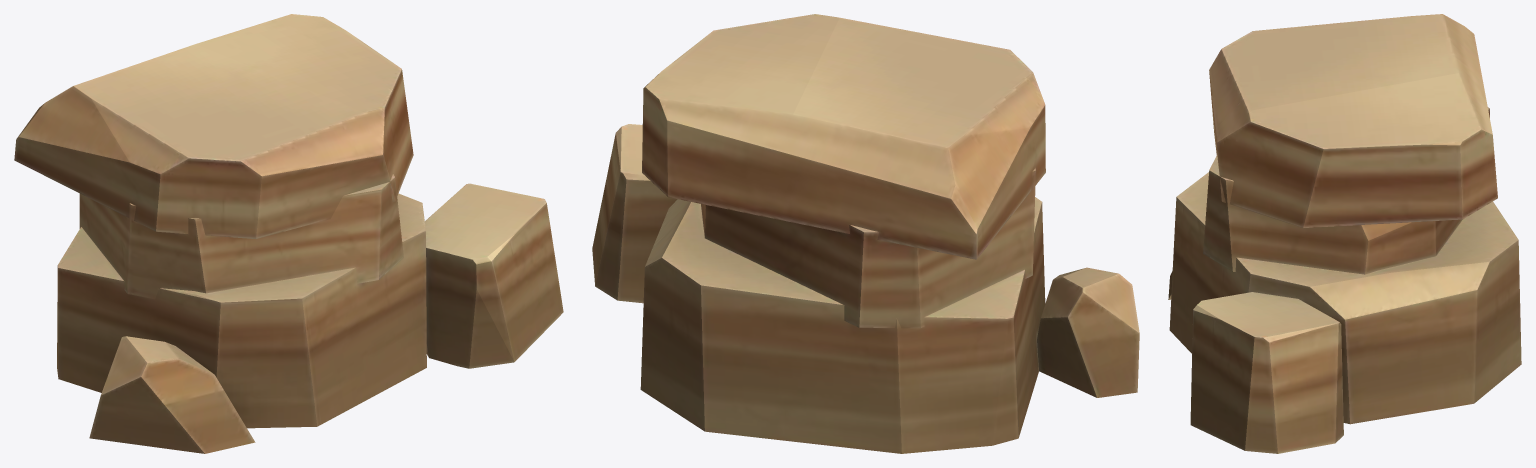
The model's file is rock_sandstone_b.glb.
The picture shows the model from 3 angles, left to right: view 1: azimuth 30°, elevation 25°; view 2: azimuth 150°, elevation 25°; view 3: azimuth 270°, elevation 25°; orthographic projection. The views are drawn at different scales.
Visible parts, largest first — view 1: Static_Mesh; view 2: Static_Mesh; view 3: Static_Mesh.
Boxes of the visible parts, <box> form: Static_Mesh: <box>14,14,563,453</box>; Static_Mesh: <box>592,14,1139,453</box>; Static_Mesh: <box>1168,14,1521,453</box>.
Size of the model in its own units: 1.94 by 1.05 by 1.25.
1 material, 1 textured.
